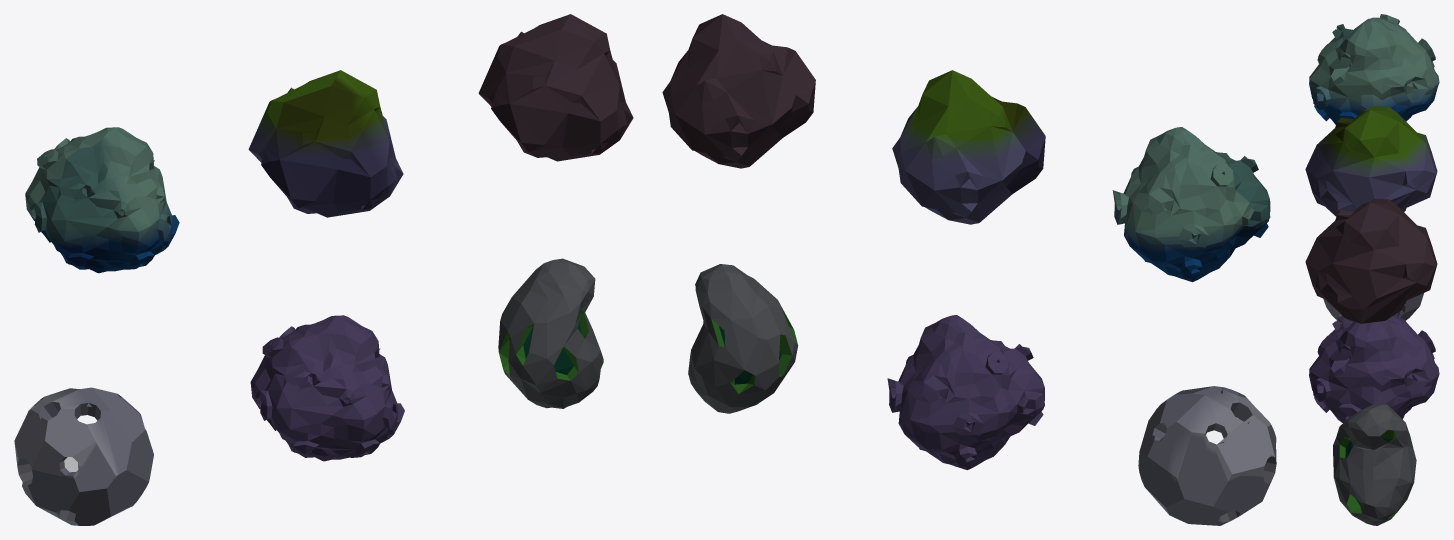
The model's file is asteroids_-_low_poly.glb.
The picture shows the model from 3 angles, left to right: view 1: azimuth 30°, elevation 25°; view 2: azimuth 150°, elevation 25°; view 3: azimuth 270°, elevation 25°; orthographic projection. The views are drawn at different scales.
Parts seen in each view (by area): view 1: Sphere.009, Sphere.005, Sphere.007, Sphere.011, Sphere.008, Sphere.006; view 2: Sphere.009, Sphere.005, Sphere.011, Sphere.007, Sphere.008, Sphere.006; view 3: Sphere.007, Sphere.005, Sphere.011, Sphere.009, Sphere.006, Sphere.008.
Boxes of the visible parts, left/top/right/bottom form: Sphere.009: left=25, top=127, right=179, bottom=273; Sphere.005: left=250, top=315, right=404, bottom=461; Sphere.007: left=478, top=14, right=633, bottom=161; Sphere.011: left=248, top=70, right=403, bottom=217; Sphere.008: left=14, top=387, right=153, bottom=525; Sphere.006: left=498, top=258, right=603, bottom=408; Sphere.009: left=1112, top=127, right=1270, bottom=282; Sphere.005: left=887, top=315, right=1044, bottom=470; Sphere.011: left=892, top=70, right=1045, bottom=224; Sphere.007: left=662, top=14, right=815, bottom=168; Sphere.008: left=1138, top=386, right=1276, bottom=525; Sphere.006: left=688, top=264, right=798, bottom=413; Sphere.007: left=1305, top=198, right=1437, bottom=323; Sphere.005: left=1309, top=312, right=1439, bottom=422; Sphere.011: left=1305, top=106, right=1437, bottom=216; Sphere.009: left=1309, top=14, right=1439, bottom=124; Sphere.006: left=1333, top=404, right=1416, bottom=525; Sphere.008: left=1323, top=293, right=1423, bottom=321.
Size of the model in its own units: 3.88 by 2.45 by 0.9168.
Materials: 1 (1 with a texture image).
